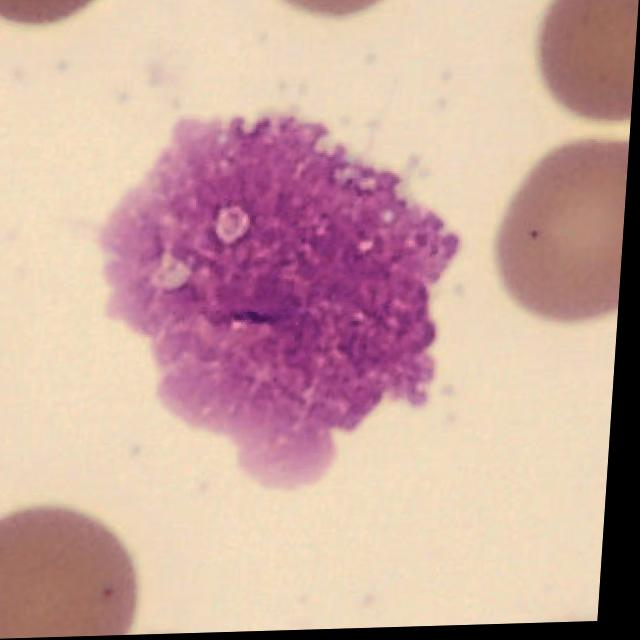Artefato: (102, 118, 464, 496)
